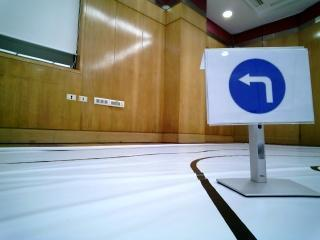left: (205, 51, 316, 123)
